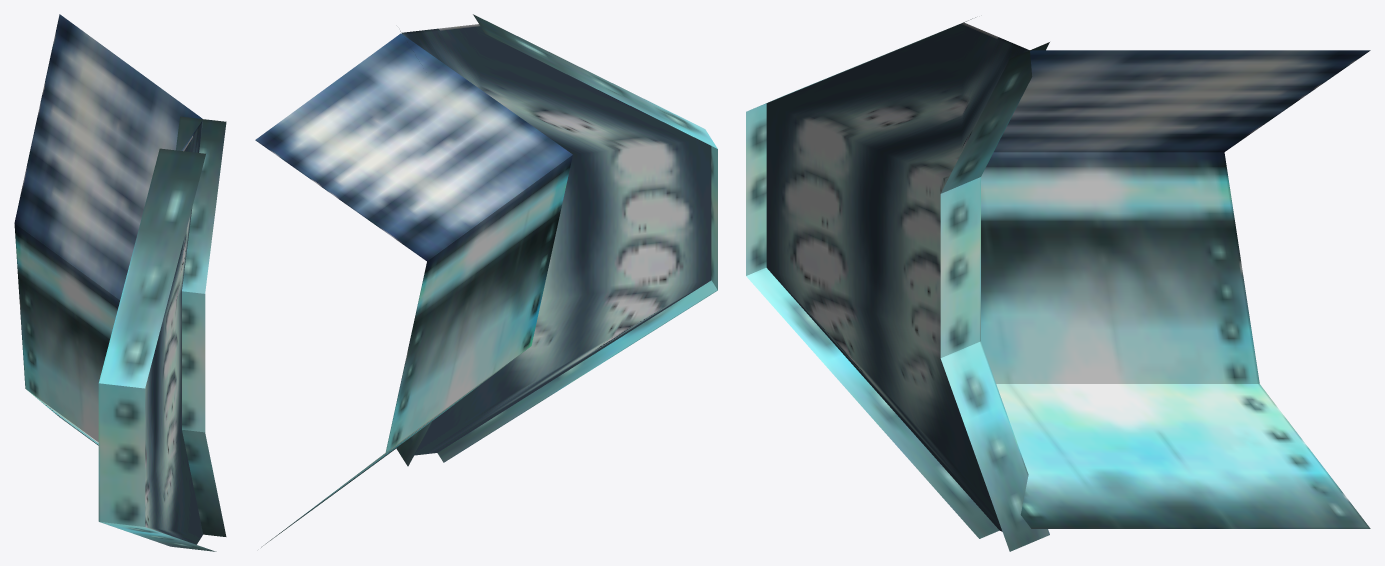
Rendered from W_A_GangDoppelschräg_Kurz_R_Ministerium_2515.glb.
3 renders of one model, left to right at view 1: azimuth 30°, elevation 25°; view 2: azimuth 150°, elevation 25°; view 3: azimuth 270°, elevation 25°, orthographic. The views are drawn at different scales.
Parts seen in each view (by area): view 1: pPlaneShape130, pPlaneShape131, pPlaneShape132, pPlaneShape133; view 2: pPlaneShape130, pPlaneShape133, pPlaneShape131; view 3: pPlaneShape130, pPlaneShape133, pPlaneShape132, pPlaneShape131.
Boxes of the visible parts, x1,y1,x2,y2 form: pPlaneShape130: (14, 14, 202, 445); pPlaneShape131: (98, 148, 216, 551); pPlaneShape132: (176, 116, 226, 536); pPlaneShape133: (145, 119, 203, 544); pPlaneShape130: (255, 33, 572, 547); pPlaneShape133: (402, 24, 711, 455); pPlaneShape131: (437, 14, 717, 462); pPlaneShape130: (981, 50, 1370, 528); pPlaneShape133: (766, 22, 1029, 531); pPlaneShape132: (940, 42, 1049, 551); pPlaneShape131: (746, 17, 999, 538).
Bounding box in the file's own units: 0.224 × 0.4008 × 0.4603.
4 materials, 4 textured.
